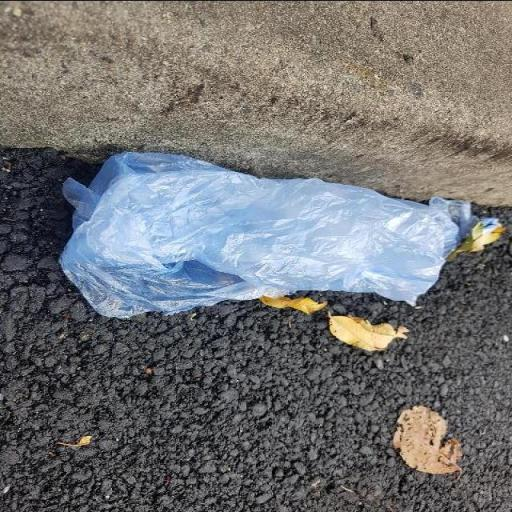plastic-bag: (48, 147, 479, 320)
